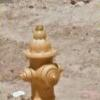Hydrant: (22, 14, 62, 100)
